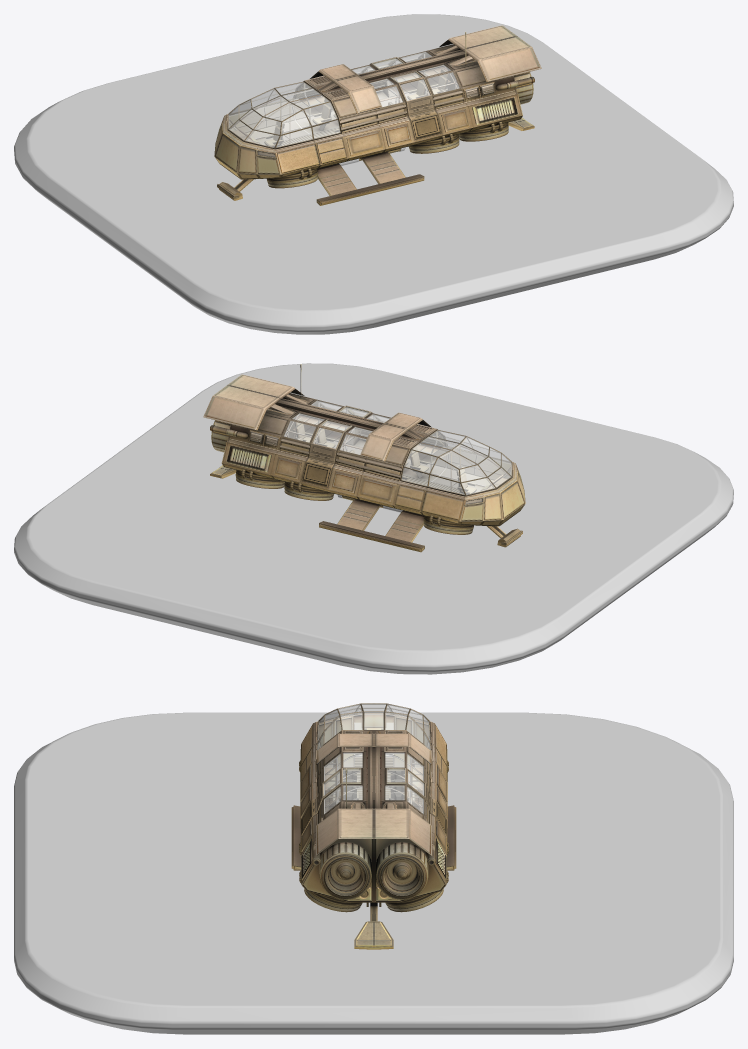
The model's file is futuristic-transport-shuttle-animated.fbx.
The picture shows the model from 3 angles, top to bottom: view 1: azimuth 30°, elevation 25°; view 2: azimuth 150°, elevation 25°; view 3: azimuth 270°, elevation 25°; orthographic projection. The views are drawn at different scales.
Parts seen in each view (by area): view 1: Plane_unnamed_0, Shuttle_002_Material_023__Shuttle_Outside_Nor_2_0, Shuttle_002_Glass_001_0, Shuttle_002_Shuttel_Inside_002__Shuttle_Inside_Col_0, Shuttle_002_Shuttel_Legs_001__Shuttle_Legs_Col_0, Shuttle_002_Hover_1_003__Shuttle_Hover_Col_0, Shuttle_002_Shuttle_Rest_002__Shuttle_Rest_Col_0, Shuttle_002_Material_026__Shuttle_Wire_Col_0, Shuttle_002_Material_020__Shuttle_Site_Col_0, Shuttle_002_Material_042__Shuttle_Inside_Col_0, Shuttle_002_Buster_001__Buster_Nor_2_0; view 2: Plane_unnamed_0, Shuttle_002_Material_023__Shuttle_Outside_Nor_2_0, Shuttle_002_Glass_001_0, Shuttle_002_Shuttel_Inside_002__Shuttle_Inside_Col_0, Shuttle_002_Shuttel_Legs_001__Shuttle_Legs_Col_0, Shuttle_002_Hover_1_003__Shuttle_Hover_Col_0, Shuttle_002_Shuttle_Rest_002__Shuttle_Rest_Col_0, Shuttle_002_Material_026__Shuttle_Wire_Col_0, Shuttle_002_Material_042__Shuttle_Inside_Col_0, Shuttle_002_Material_020__Shuttle_Site_Col_0, Shuttle_002_Buster_001__Buster_Nor_2_0; view 3: Plane_unnamed_0, Shuttle_002_Material_023__Shuttle_Outside_Nor_2_0, Shuttle_002_Glass_001_0, Shuttle_002_Buster_001__Buster_Nor_2_0, Shuttle_002_Shuttel_Inside_002__Shuttle_Inside_Col_0, Shuttle_002_Shuttel_Legs_001__Shuttle_Legs_Col_0, Shuttle_002_Shuttle_Rest_002__Shuttle_Rest_Col_0, Shuttle_002_Hover_1_003__Shuttle_Hover_Col_0, Shuttle_002_Material_042__Shuttle_Inside_Col_0, Shuttle_002_Material_026__Shuttle_Wire_Col_0, Shuttle_002_Material_020__Shuttle_Site_Col_0.
Boxes of the visible parts, x1,y1,x2,y2 form: Plane_unnamed_0: (14, 14, 733, 334); Shuttle_002_Material_023__Shuttle_Outside_Nor_2_0: (214, 25, 541, 179); Shuttle_002_Glass_001_0: (228, 52, 459, 156); Shuttle_002_Shuttel_Inside_002__Shuttle_Inside_Col_0: (226, 51, 459, 149); Shuttle_002_Shuttel_Legs_001__Shuttle_Legs_Col_0: (217, 117, 534, 205); Shuttle_002_Hover_1_003__Shuttle_Hover_Col_0: (267, 121, 508, 188); Shuttle_002_Shuttle_Rest_002__Shuttle_Rest_Col_0: (364, 32, 466, 139); Shuttle_002_Material_026__Shuttle_Wire_Col_0: (227, 81, 341, 148); Shuttle_002_Material_020__Shuttle_Site_Col_0: (264, 69, 448, 147); Shuttle_002_Material_042__Shuttle_Inside_Col_0: (230, 54, 457, 146); Shuttle_002_Buster_001__Buster_Nor_2_0: (496, 72, 534, 104); Plane_unnamed_0: (14, 363, 733, 674); Shuttle_002_Material_023__Shuttle_Outside_Nor_2_0: (203, 374, 525, 526); Shuttle_002_Glass_001_0: (284, 401, 511, 503); Shuttle_002_Shuttel_Inside_002__Shuttle_Inside_Col_0: (284, 400, 513, 496); Shuttle_002_Shuttel_Legs_001__Shuttle_Legs_Col_0: (210, 465, 522, 552); Shuttle_002_Hover_1_003__Shuttle_Hover_Col_0: (235, 469, 473, 534); Shuttle_002_Shuttle_Rest_002__Shuttle_Rest_Col_0: (300, 364, 378, 486); Shuttle_002_Material_026__Shuttle_Wire_Col_0: (400, 430, 512, 496); Shuttle_002_Material_042__Shuttle_Inside_Col_0: (286, 403, 509, 494); Shuttle_002_Material_020__Shuttle_Site_Col_0: (294, 417, 476, 494); Shuttle_002_Buster_001__Buster_Nor_2_0: (210, 420, 248, 452); Plane_unnamed_0: (14, 712, 733, 1034); Shuttle_002_Material_023__Shuttle_Outside_Nor_2_0: (300, 722, 447, 906); Shuttle_002_Glass_001_0: (317, 704, 430, 813); Shuttle_002_Buster_001__Buster_Nor_2_0: (312, 841, 435, 899); Shuttle_002_Shuttel_Inside_002__Shuttle_Inside_Col_0: (316, 713, 431, 813); Shuttle_002_Shuttel_Legs_001__Shuttle_Legs_Col_0: (291, 805, 456, 949); Shuttle_002_Shuttle_Rest_002__Shuttle_Rest_Col_0: (301, 768, 446, 900); Shuttle_002_Hover_1_003__Shuttle_Hover_Col_0: (299, 760, 448, 912); Shuttle_002_Material_042__Shuttle_Inside_Col_0: (325, 708, 422, 808); Shuttle_002_Material_026__Shuttle_Wire_Col_0: (317, 703, 430, 750); Shuttle_002_Material_020__Shuttle_Site_Col_0: (340, 771, 407, 800).
Bounding box in the file's own units: 2280 × 589 × 2280.
13 materials, 9 textured.
